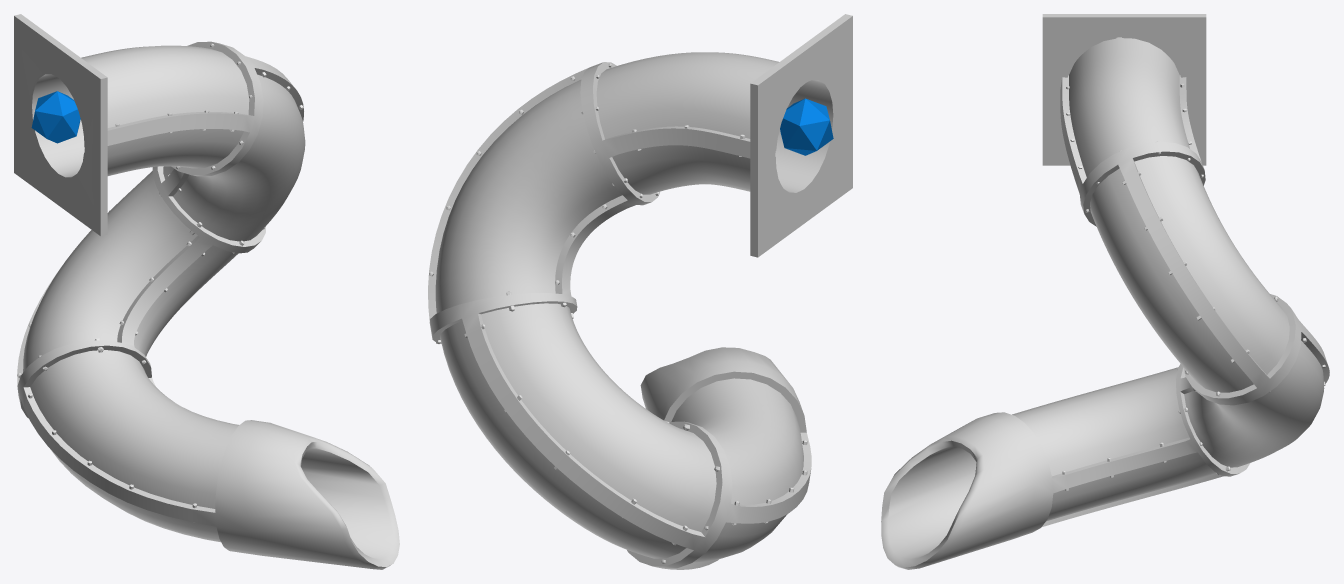
The model's file is Turbo twister slider 7' R.glb.
3 views of the same model, side by side, from view 1: azimuth 30°, elevation 25°; view 2: azimuth 150°, elevation 25°; view 3: azimuth 270°, elevation 25° (orthographic). The views are drawn at different scales.
Parts seen in each view (by area): view 1: NurbsPath.001, Joint.052, Side winder slide.008; view 2: NurbsPath.001, Joint.052, Side winder slide.008; view 3: NurbsPath.001, Side winder slide.008.
Part boxes in pixels (<box>): NurbsPath.001: <box>14,14,399,569</box>; Joint.052: <box>31,91,80,143</box>; Side winder slide.008: <box>17,43,303,522</box>; NurbsPath.001: <box>428,14,852,569</box>; Joint.052: <box>780,98,833,155</box>; Side winder slide.008: <box>429,63,807,563</box>; NurbsPath.001: <box>881,14,1329,569</box>; Side winder slide.008: <box>1062,83,1325,490</box>.
Size of the model in its own units: 1.87 by 2.82 by 2.51.
